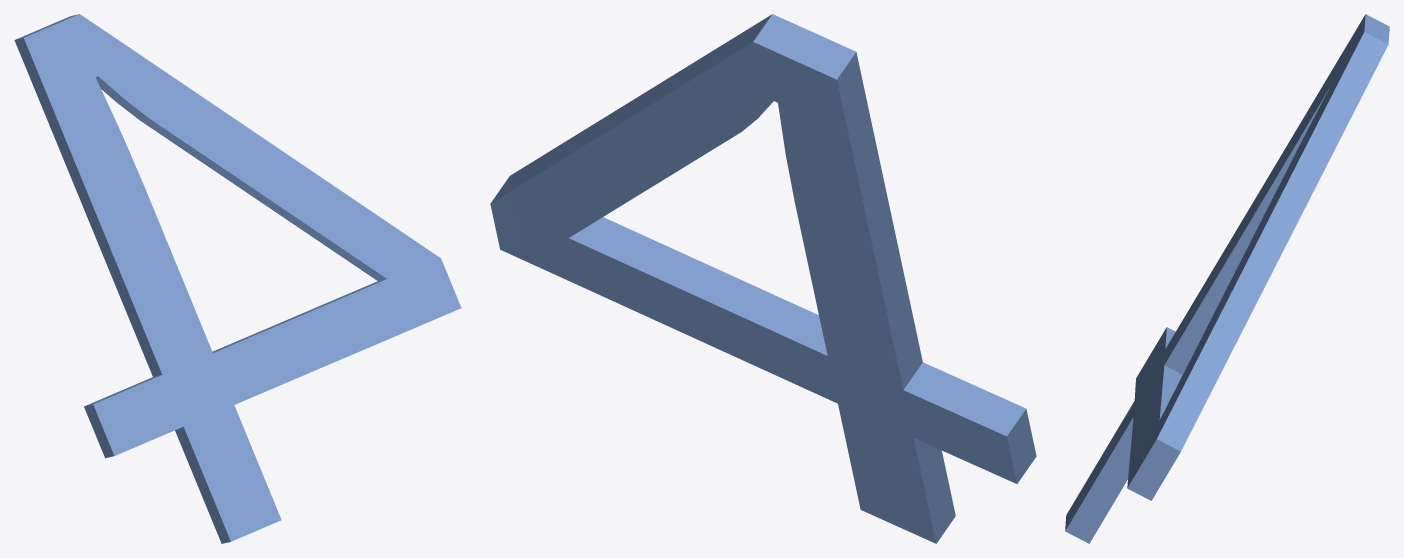
File: New_Number_4.gltf
3 renders of one model, left to right at view 1: azimuth 30°, elevation 25°; view 2: azimuth 150°, elevation 25°; view 3: azimuth 270°, elevation 25°, orthographic. The views are drawn at different scales.
Visible parts, largest first — view 1: Part 526; view 2: Part 526; view 3: Part 526.
Part boxes in pixels (bbox=[...]): Part 526: bbox=[14, 14, 461, 543]; Part 526: bbox=[490, 14, 1036, 543]; Part 526: bbox=[1065, 14, 1389, 543].
Bounding box in the file's own units: 0.00412 × 0.00495 × 0.00299.
